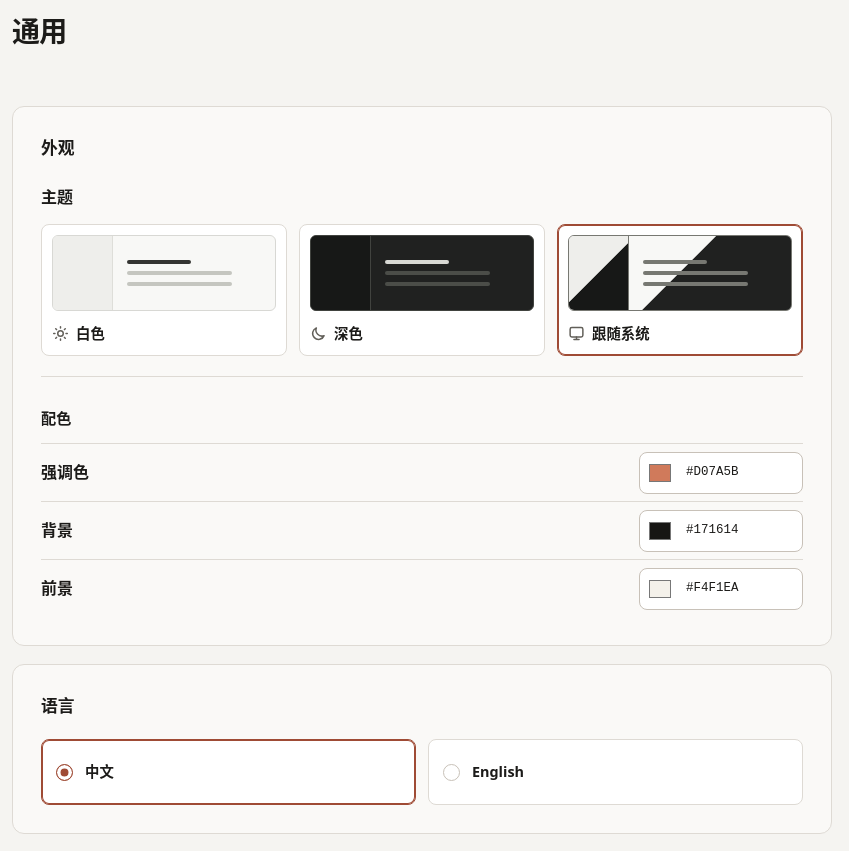
it: GeneralSettingsPage › switches the settings language immediately
Step 1. Click the radio button labelled "English" → (498, 772), box [428, 739, 803, 805]
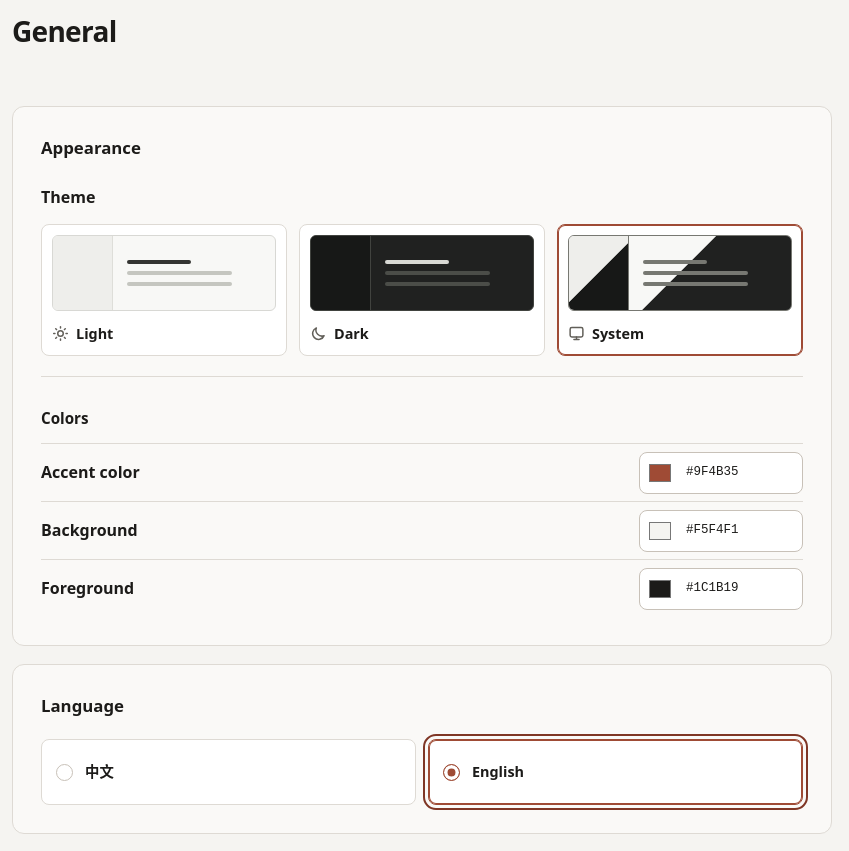
Expected: the heading "Appearance" is shown, [41, 136, 141, 159]
Result: the heading "General" is shown at [12, 12, 116, 51]
